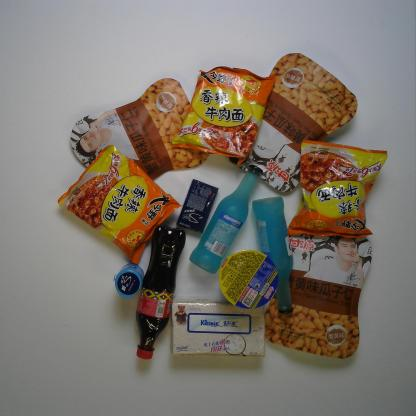Alcohol: (188, 162, 263, 277), (250, 193, 297, 314)
Dried Fruit: (231, 50, 358, 189), (267, 221, 378, 364), (67, 78, 208, 187)
Drink: (134, 222, 188, 363)
Gum: (176, 178, 221, 236), (109, 260, 144, 304)
Instant Noodles: (51, 146, 182, 262), (174, 64, 280, 165), (286, 138, 388, 242), (216, 249, 281, 310)
Tissue: (168, 297, 270, 359)
